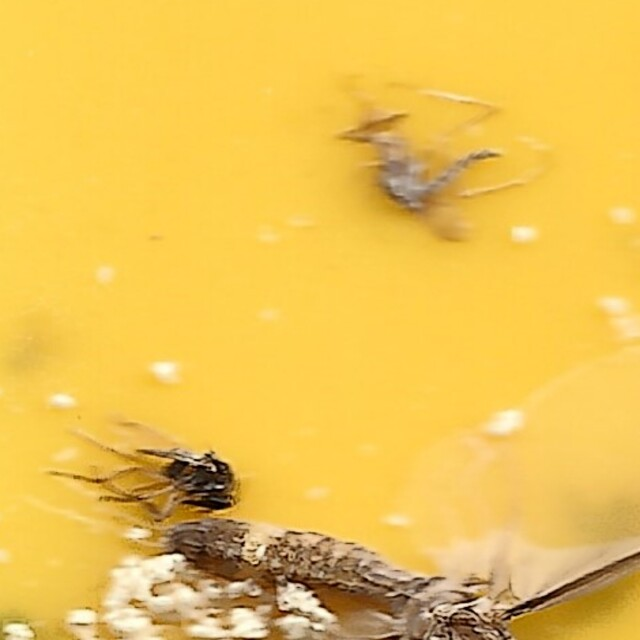Brachycera: (136, 440, 245, 522)
Nematocera: (355, 118, 504, 221)
